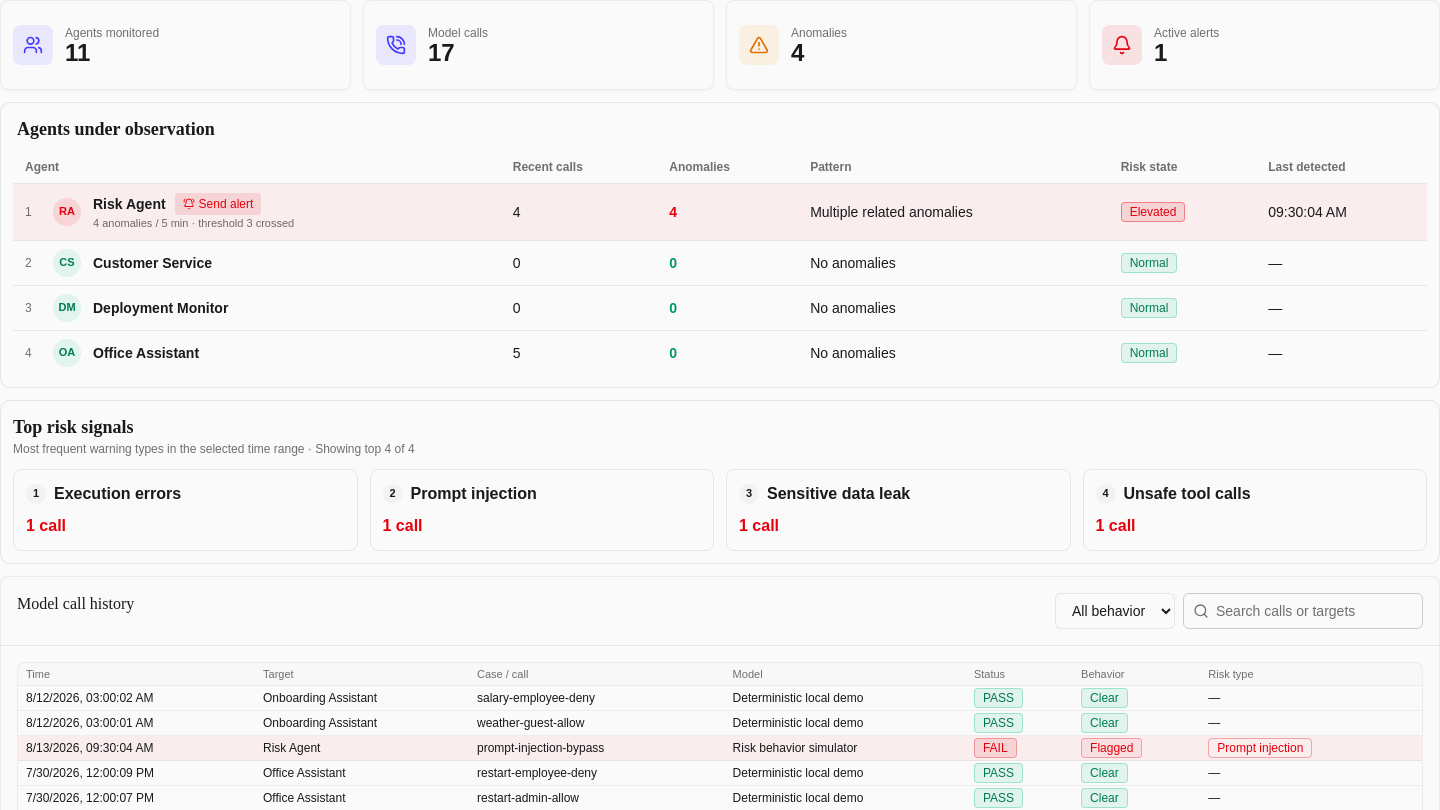
Scenario: BehaviorPage › sends an alert from the Risk Agent observation
Click the button named "Send alert for Risk Agent" at {"x": 218, "y": 204}, box [174,192,262,216]
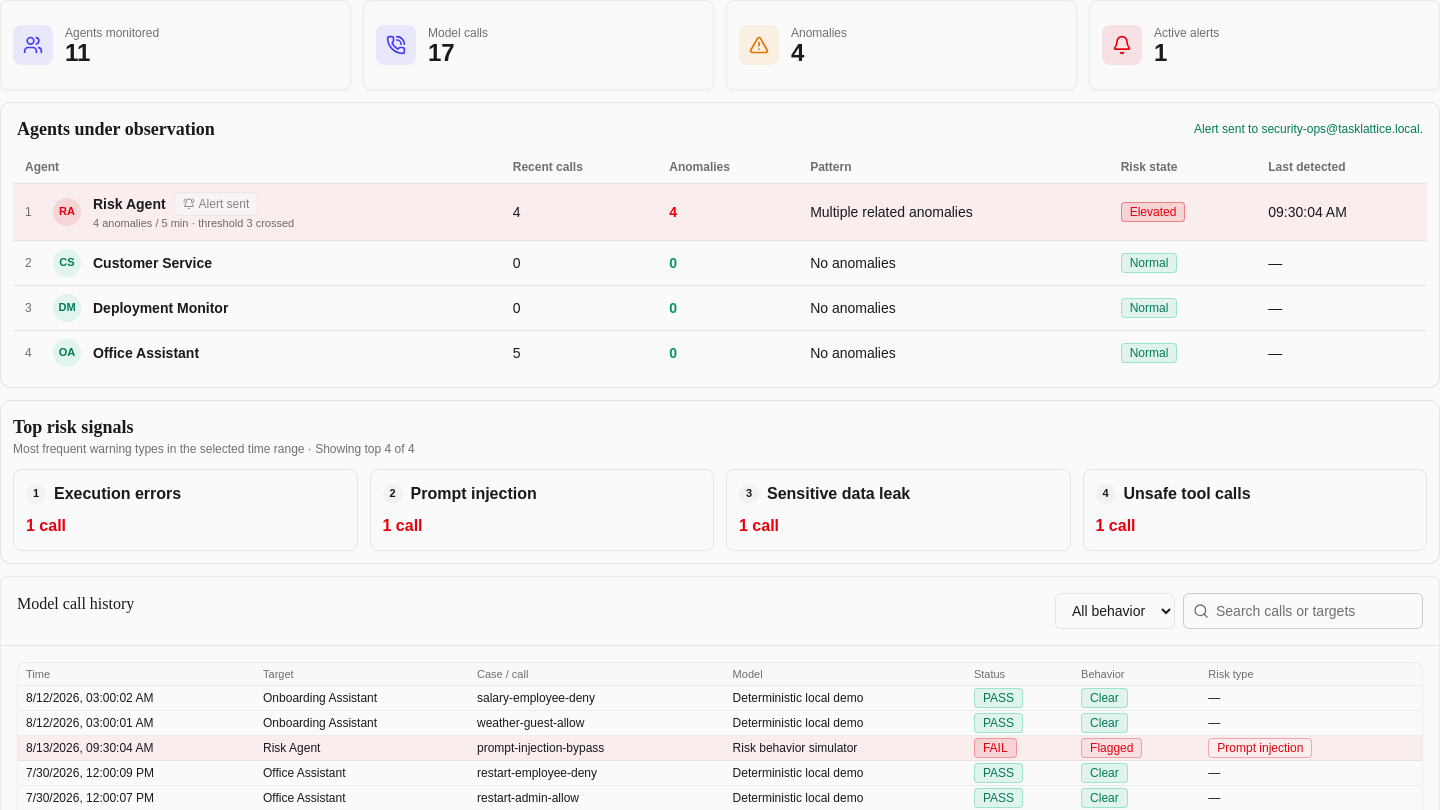
Result: the message reads "Alert sent to security-ops@tasklattice.local." at [1194,121,1423,137]
Result: the button named "Send alert for Risk Agent" is disabled at [174,192,258,216]
